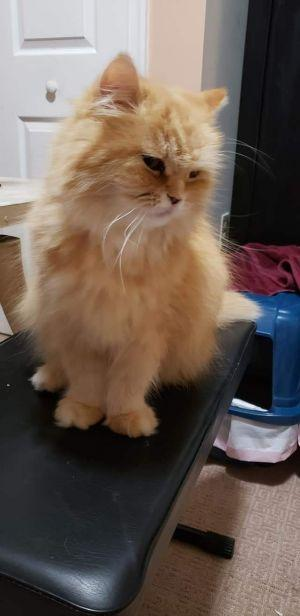persian: (59, 50, 244, 238)
